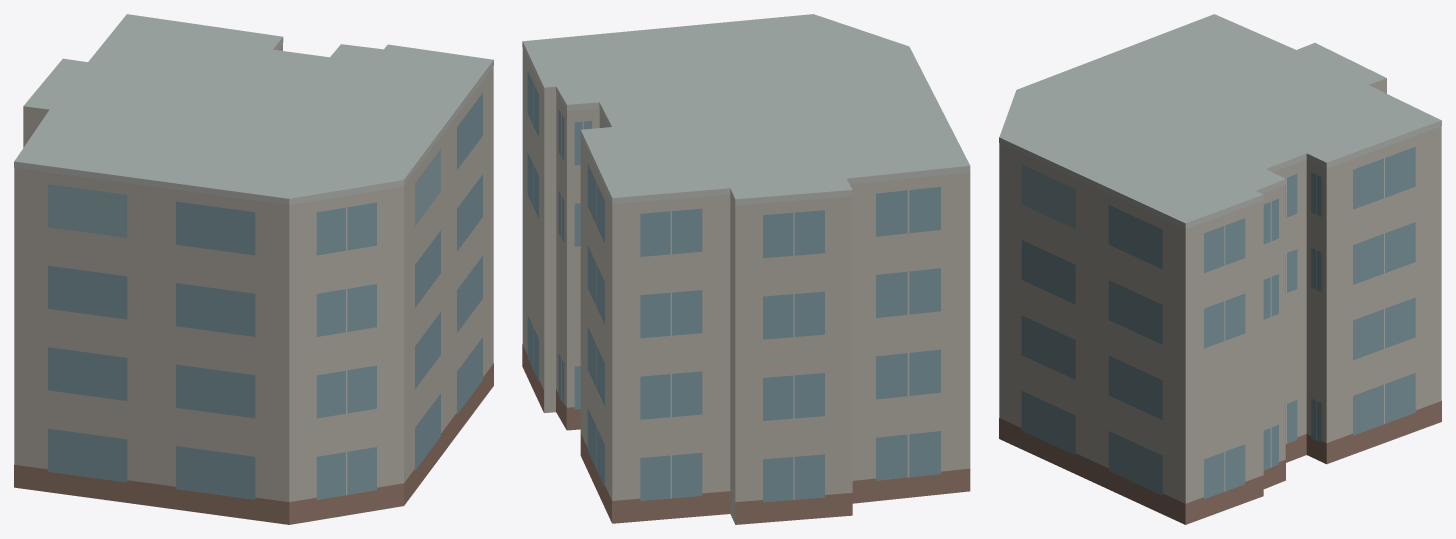
The model's file is survey-upis-32748260.glb.
3 renders of one model, left to right at view 1: azimuth 30°, elevation 25°; view 2: azimuth 150°, elevation 25°; view 3: azimuth 270°, elevation 25°, orthographic. The views are drawn at different scales.
Parts seen in each view (by area): view 1: survey-upis-32748260.tmp; view 2: survey-upis-32748260.tmp; view 3: survey-upis-32748260.tmp.
Boxes of the visible parts, x1=… form: survey-upis-32748260.tmp: x1=14, y1=14, x2=493, y2=524; survey-upis-32748260.tmp: x1=522, y1=14, x2=970, y2=524; survey-upis-32748260.tmp: x1=999, y1=14, x2=1441, y2=524.
Bounding box in the file's own units: 18.92 × 12.7 × 16.9.
